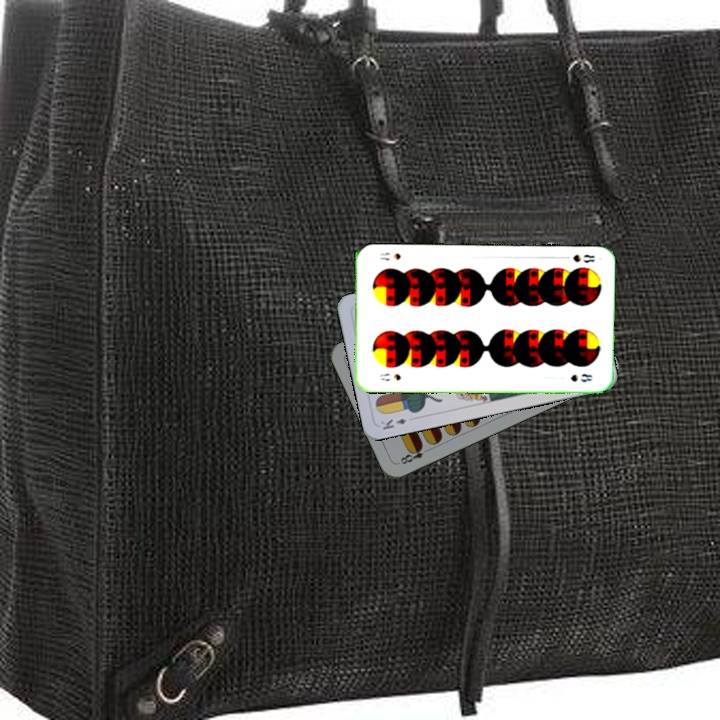E8: (394, 441, 433, 467)
EK: (377, 414, 409, 432)
S8: (558, 251, 598, 265), (375, 369, 403, 384)
